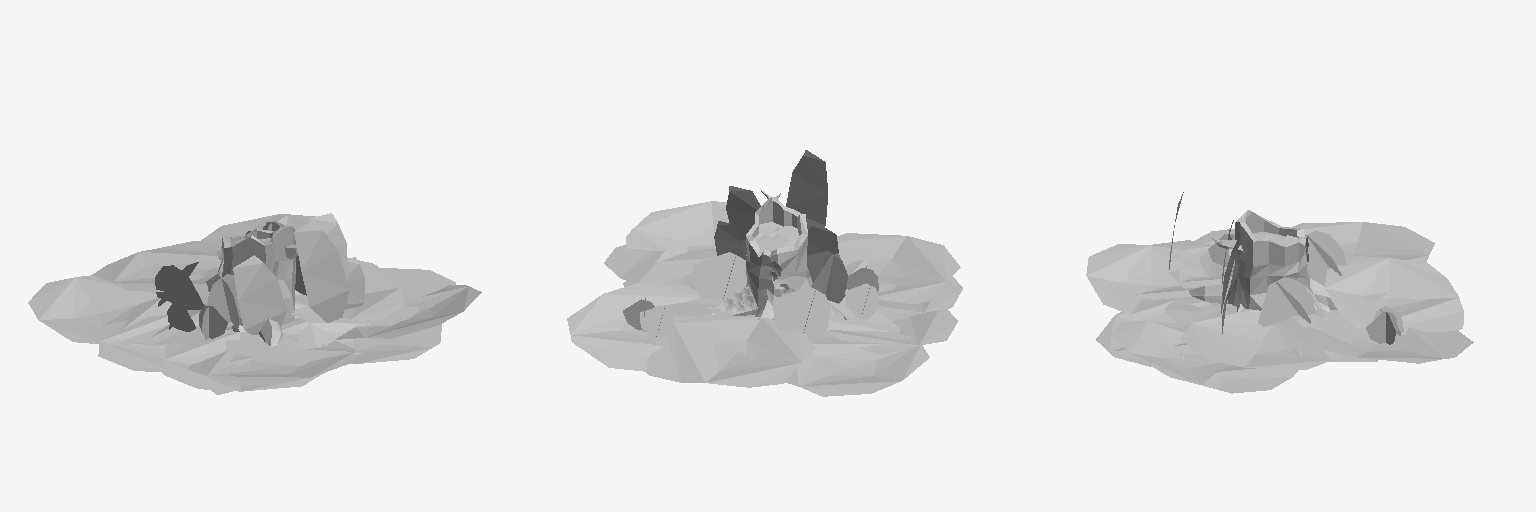
Rendered from Stylish Tree StumpOBJ.obj.
3 views of the same model, side by side, from view 1: azimuth 30°, elevation 25°; view 2: azimuth 150°, elevation 25°; view 3: azimuth 270°, elevation 25° (orthographic).
Parts seen in each view (by area): view 1: Plane.025_Material.005_0, Cylinder_Material.001_0; view 2: Plane.025_Material.005_0, Cylinder_Material.001_0; view 3: Plane.025_Material.005_0, Cylinder_Material.001_0.
Boxes of the visible parts, <box> form: Plane.025_Material.005_0: <box>28,213,481,391</box>; Cylinder_Material.001_0: <box>194,226,306,346</box>; Plane.025_Material.005_0: <box>567,150,962,396</box>; Cylinder_Material.001_0: <box>708,189,846,320</box>; Plane.025_Material.005_0: <box>1086,192,1473,393</box>; Cylinder_Material.001_0: <box>1189,210,1336,317</box>.
Bounding box in the file's own units: 1044 × 393 × 996.